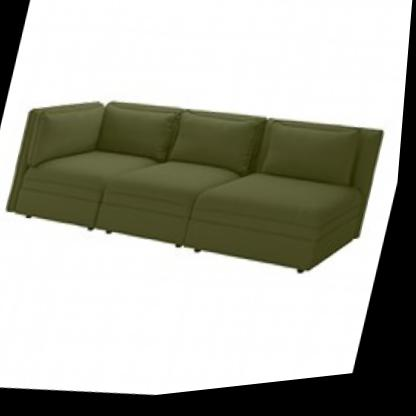Sofa: (0, 34, 406, 361)
